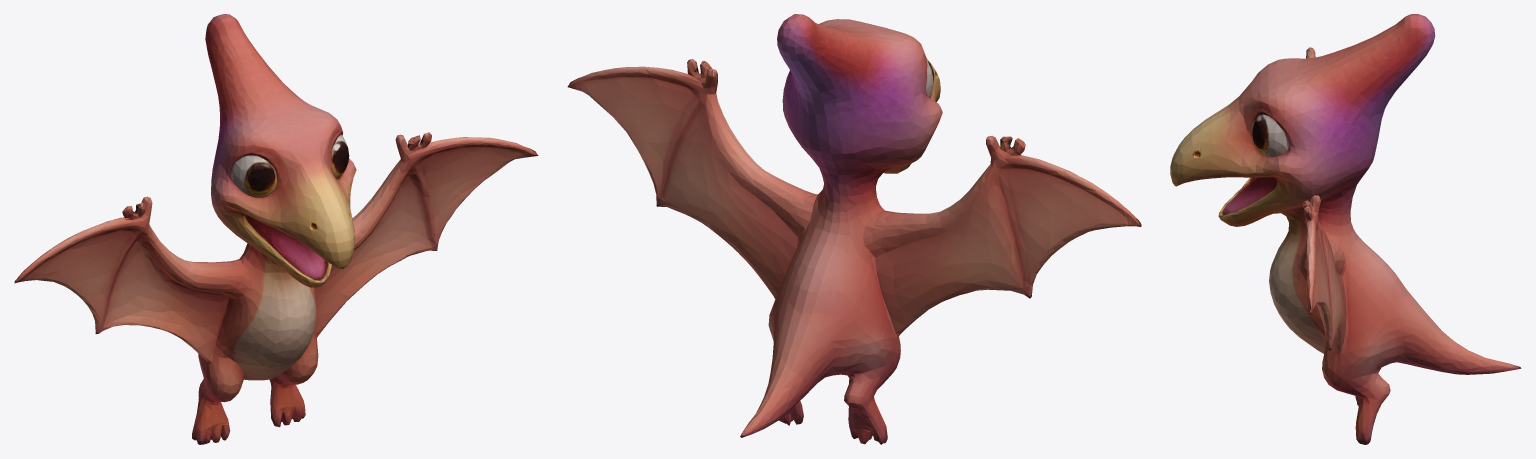
Rendered from image_4.glb.
3 views of the same model, side by side, from view 1: azimuth 30°, elevation 25°; view 2: azimuth 150°, elevation 25°; view 3: azimuth 270°, elevation 25° (orthographic). The views are drawn at different scales.
Parts seen in each view (by area): view 1: world; view 2: world; view 3: world.
Boxes of the visible parts, bbox=[...] form: world: bbox=[14, 14, 538, 444]; world: bbox=[567, 14, 1141, 444]; world: bbox=[1170, 14, 1521, 444].
Size of the model in its own units: 1 by 0.7283 by 0.5711.
Materials: 1 (1 with a texture image).
